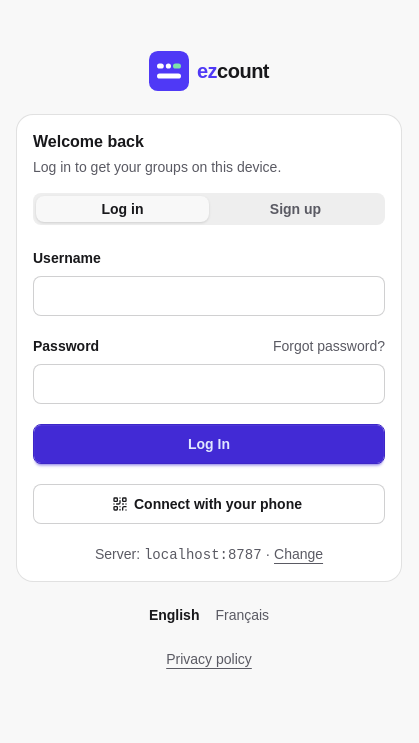
Scenario: AuthScreen › leads to the recovery key from a forgotten password, and back
Click the button "Forgot password?": (329, 346) x1=273 y1=336 x2=385 y2=356
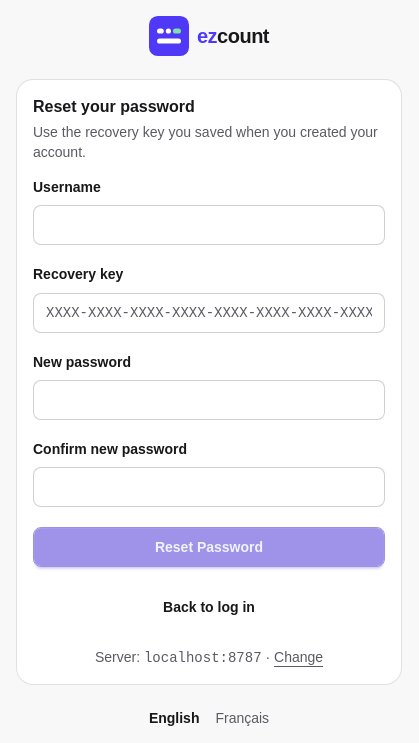
Check: the password field labelled "New password" is shown, box x1=33 y1=380 x2=385 y2=420
Check: the field labelled "Recovery key" is shown, box x1=33 y1=292 x2=385 y2=332
Check: the tab "Sign up" is gone
Click the button "Back to log in": (209, 607) x1=33 y1=587 x2=385 y2=627
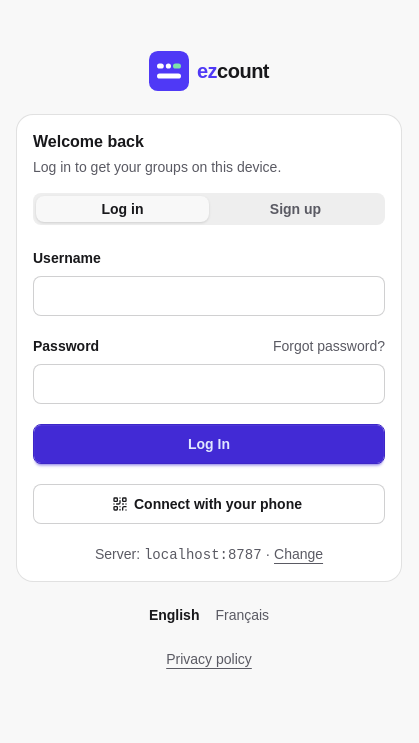
Check: the text labelled "recovery key" is gone
